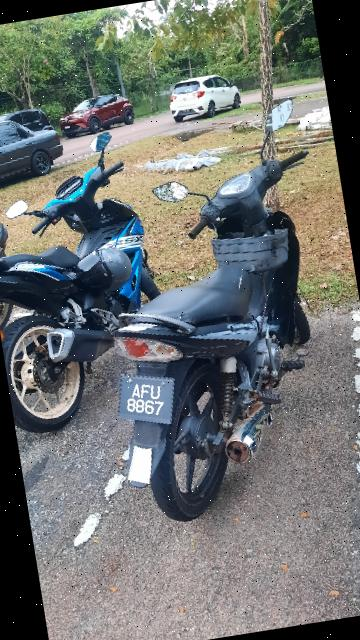License_Plate: (102, 367, 185, 443)
motorcycle: (58, 92, 360, 535), (1, 112, 188, 446)
